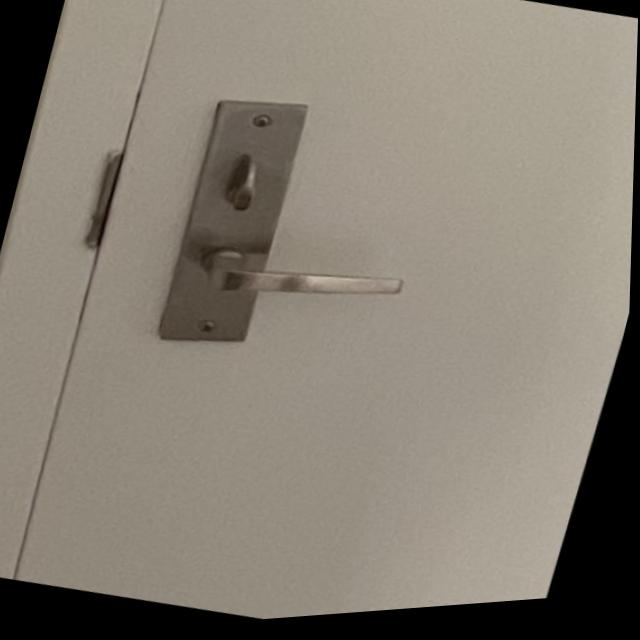door_handle: (174, 211, 434, 360)
